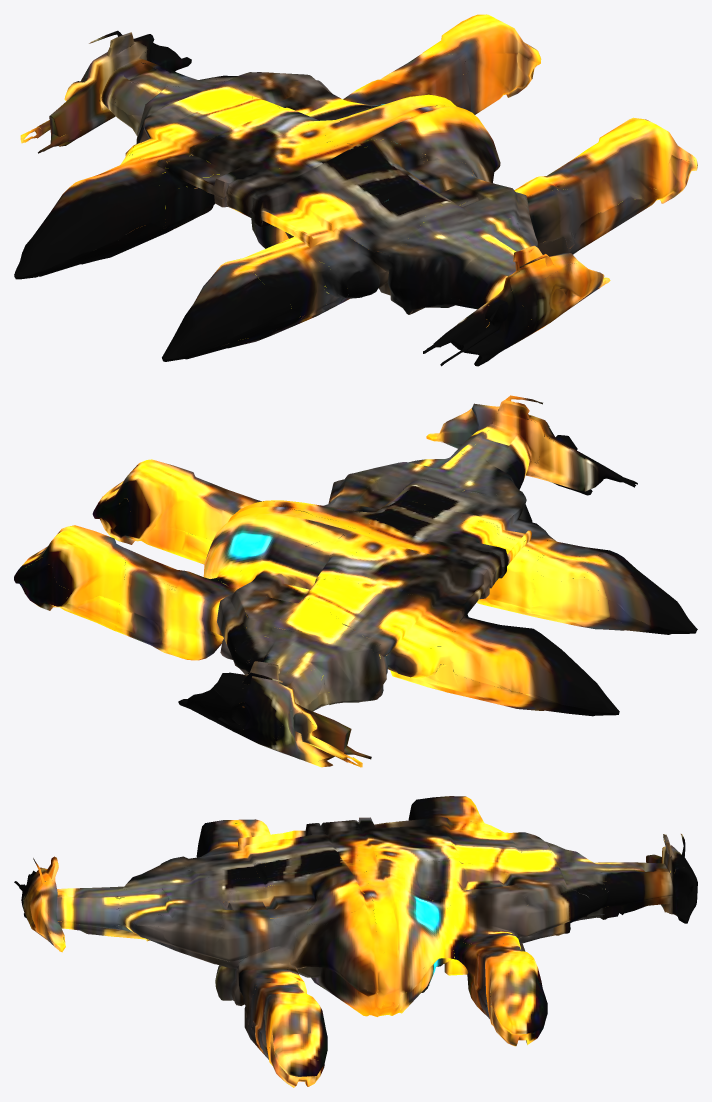
The model's file is mule_c1.glb.
3 renders of one model, top to bottom at view 1: azimuth 30°, elevation 25°; view 2: azimuth 150°, elevation 25°; view 3: azimuth 270°, elevation 25°, orthographic. The views are drawn at different scales.
Parts seen in each view (by area): view 1: tripo_node_20e3b4f0-492f-4696-8ce0-8296b25f505d; view 2: tripo_node_20e3b4f0-492f-4696-8ce0-8296b25f505d; view 3: tripo_node_20e3b4f0-492f-4696-8ce0-8296b25f505d.
Boxes of the visible parts, x1,y1,x2,y2 form: tripo_node_20e3b4f0-492f-4696-8ce0-8296b25f505d: [14, 14, 697, 366]; tripo_node_20e3b4f0-492f-4696-8ce0-8296b25f505d: [14, 395, 697, 767]; tripo_node_20e3b4f0-492f-4696-8ce0-8296b25f505d: [14, 796, 697, 1087].
Size of the model in its own units: 1.9 by 0.4066 by 2.
1 material, 1 textured.
